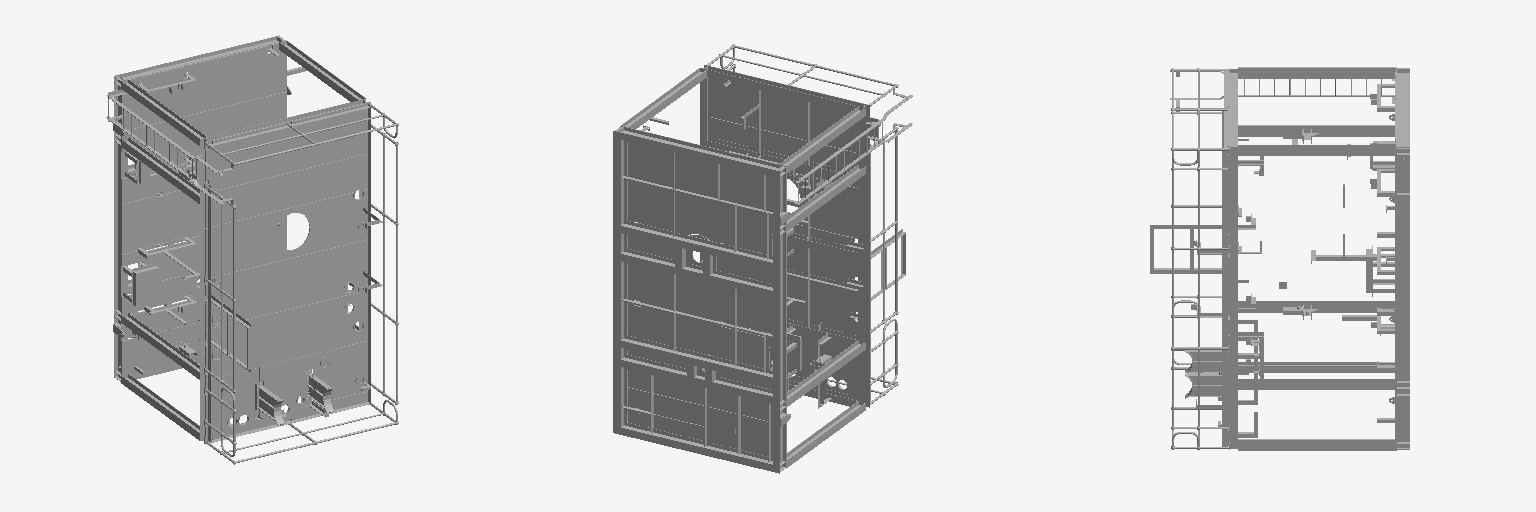
Rendered from Steel.obj.
3 renders of one model, left to right at view 1: azimuth 30°, elevation 25°; view 2: azimuth 150°, elevation 25°; view 3: azimuth 270°, elevation 25°, orthographic.
Parts seen in each view (by area): view 1: 三维立体, BODY; view 2: 三维立体, 区域, BODY; view 3: 三维立体, BODY.
Part boxes in pixels (bbox=[...]): 三维立体: bbox=[106, 35, 398, 464]; BODY: bbox=[205, 103, 397, 456]; 三维立体: bbox=[613, 44, 912, 473]; 区域: bbox=[711, 78, 857, 396]; BODY: bbox=[707, 48, 897, 404]; 三维立体: bbox=[1150, 67, 1409, 450]; BODY: bbox=[1172, 69, 1228, 448].
Size of the model in its own units: 3761 by 6000 by 4694.